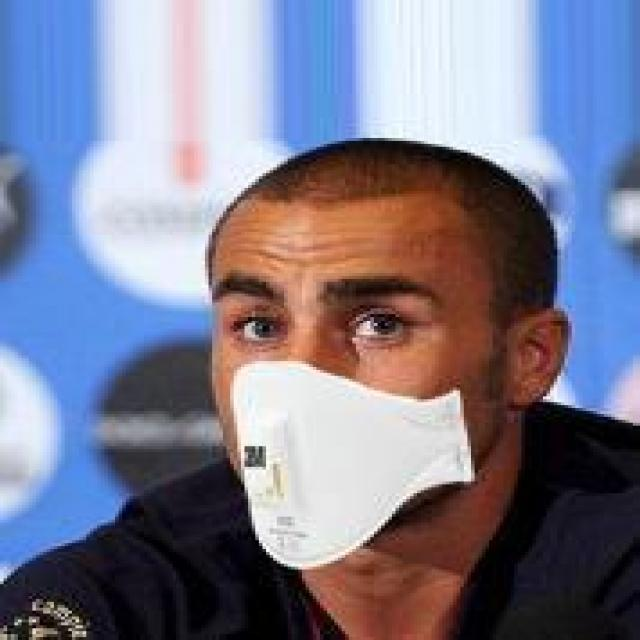mask: (158, 156, 554, 587)
